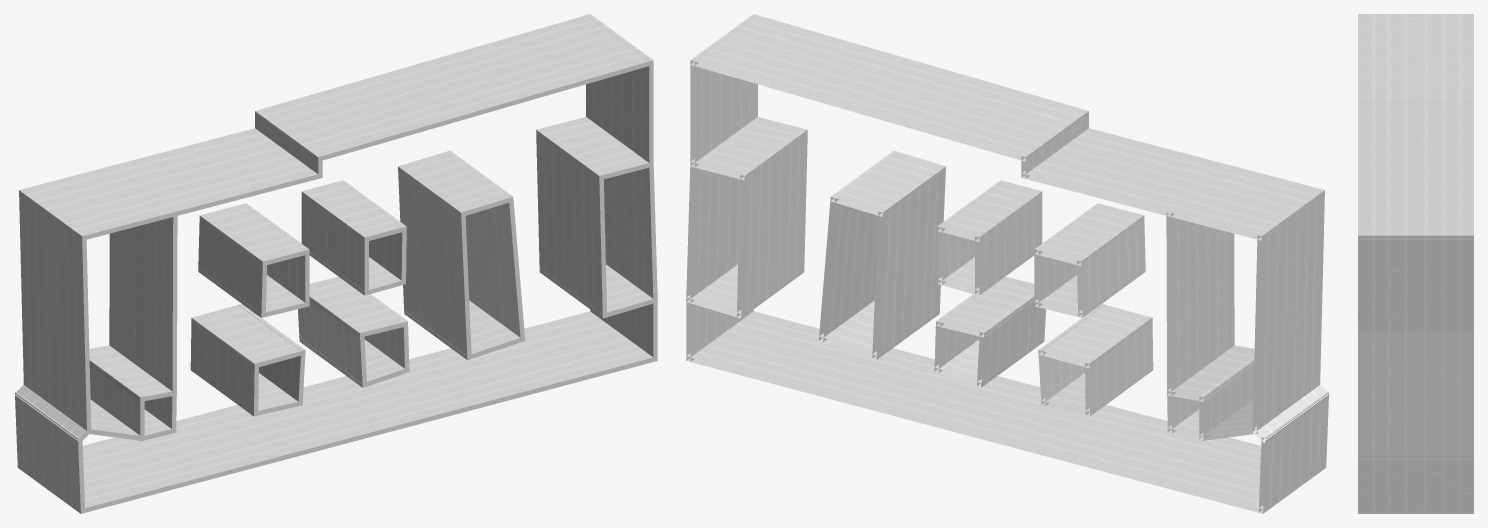
The model's file is wall_1.obj.
The picture shows the model from 3 angles, left to right: view 1: azimuth 30°, elevation 25°; view 2: azimuth 150°, elevation 25°; view 3: azimuth 270°, elevation 25°; orthographic projection. The views are drawn at different scales.
Parts seen in each view (by area): view 1: walls; view 2: walls; view 3: walls.
Part boxes in pixels (x1,y1,x2,y2): walls: (14,14,657,513); walls: (686,14,1329,513); walls: (1358,14,1473,513).
Size of the model in its own units: 13.27 by 6.86 by 2.5.
